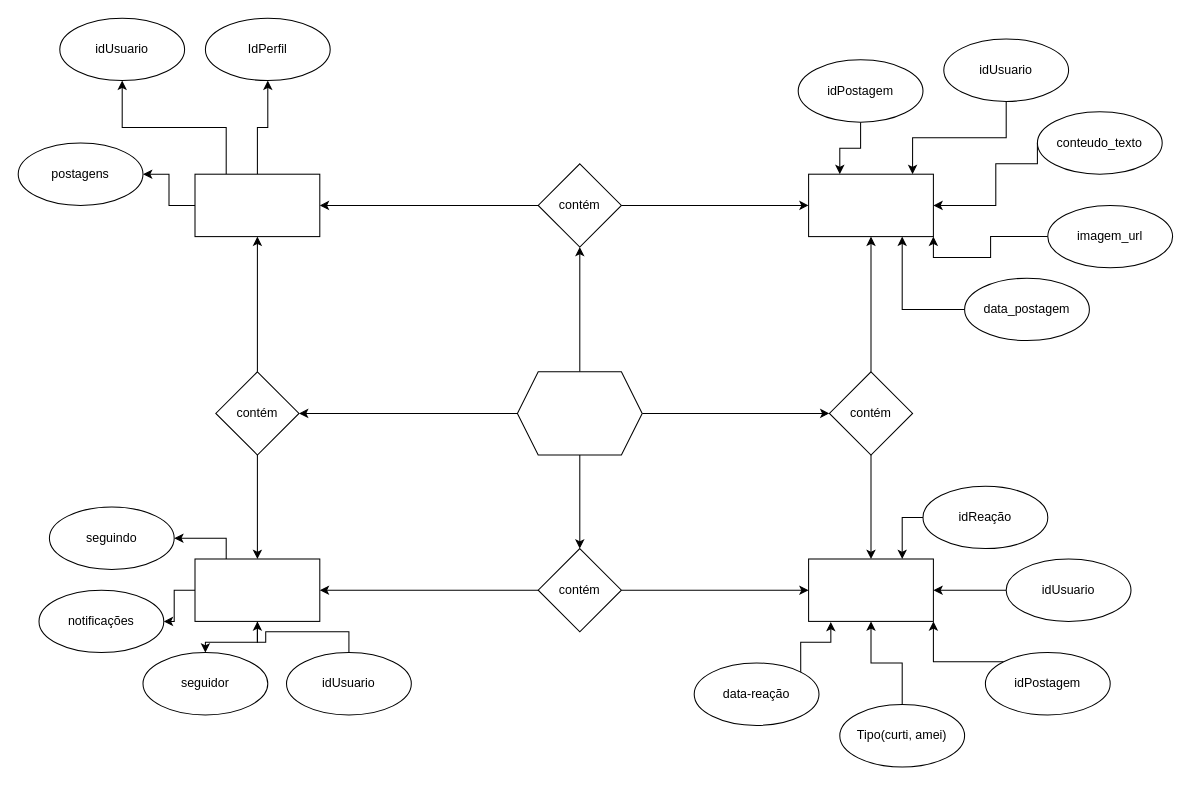
Image size: 1191x785. Some labels were removed from this diagram. Here are the shapes that lost their labels. From the top down, the centre of each, then its label:
point (257, 205): perfil
point (870, 205): postagem
point (579, 413): DevConnect
point (257, 589): usario
point (870, 589): reação
